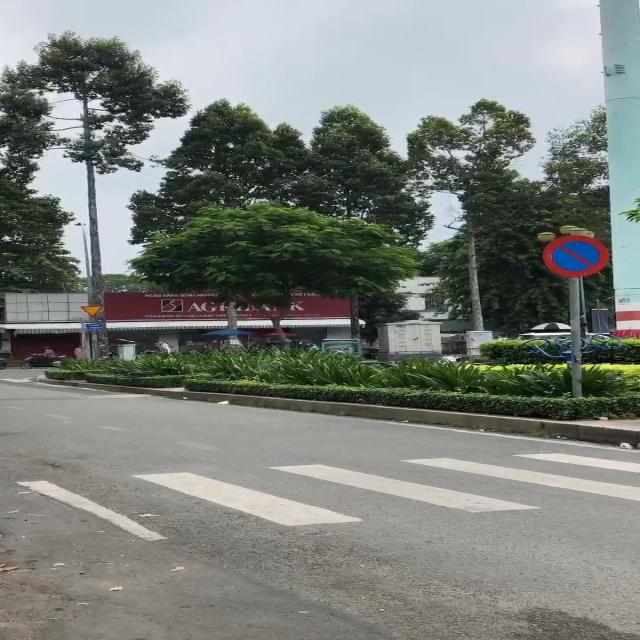Bien bao cam do xe: (542, 235, 612, 280)
Bien bao giao nhau voi duong uu tien: (80, 306, 113, 318)
